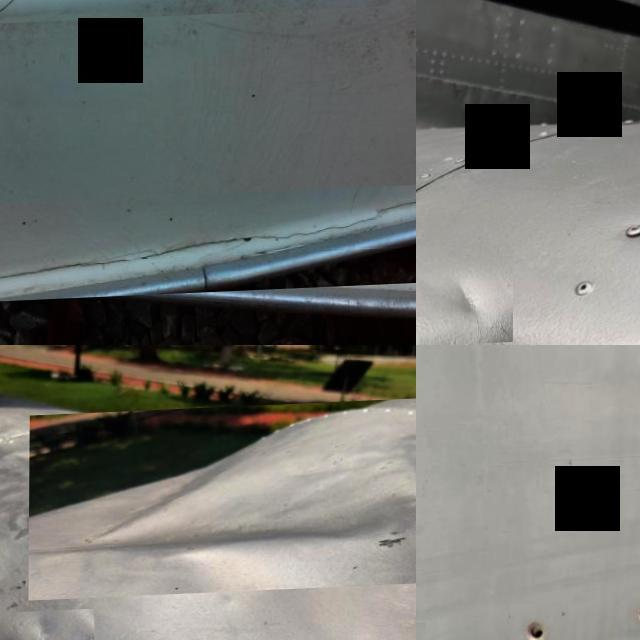Crack: (0, 198, 416, 289)
Dent: (29, 403, 416, 602), (416, 246, 513, 345)
Missing_Fastener: (509, 604, 562, 640), (624, 593, 640, 640)
